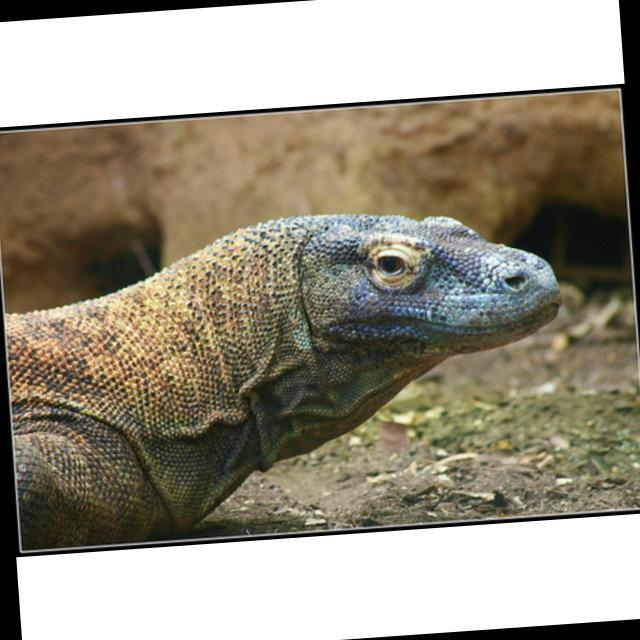KomodoDragon: (0, 195, 575, 550)
